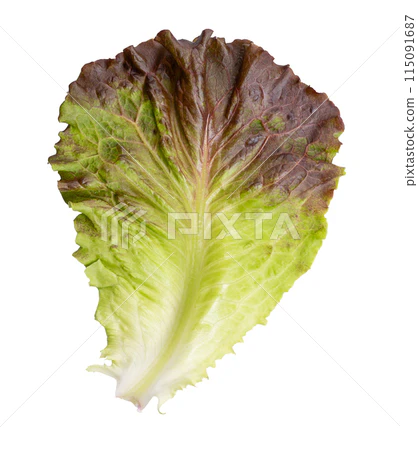lettuce: (55, 32, 365, 410)
